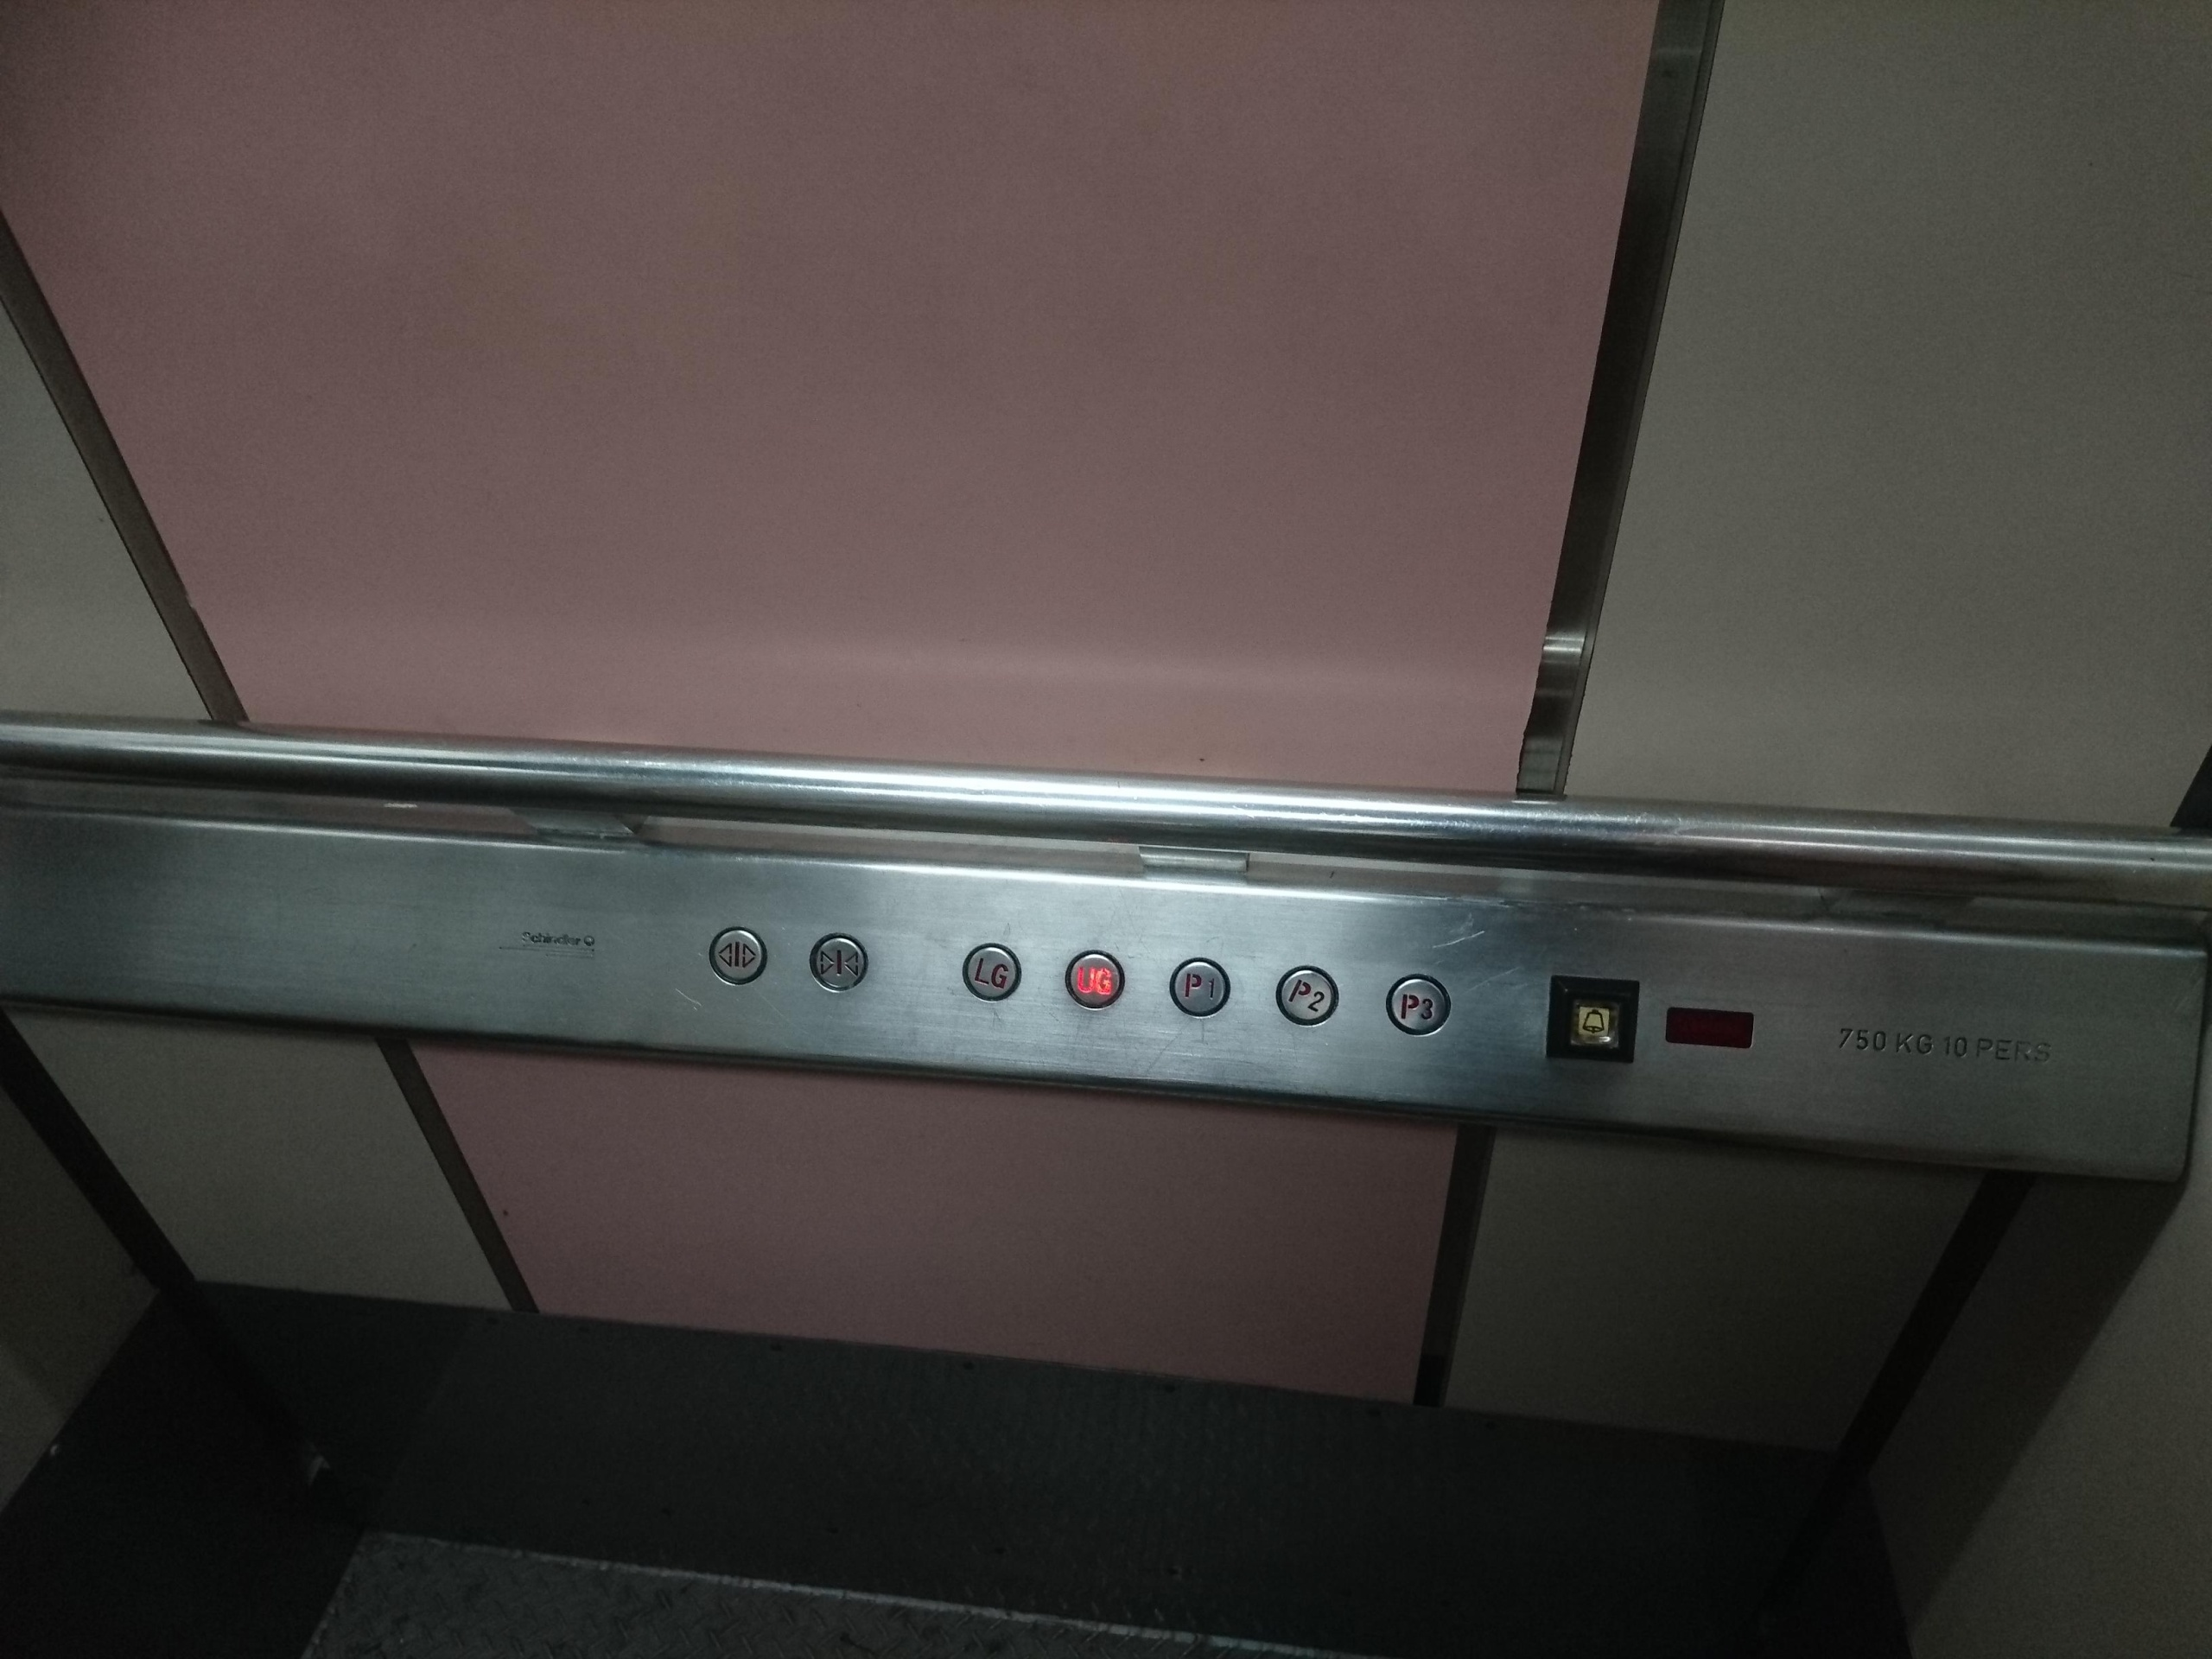LG: (958, 938, 1026, 1007)
P1: (1165, 951, 1233, 1021)
P2: (1271, 958, 1341, 1032)
P3: (1381, 967, 1460, 1040)
UG: (1061, 945, 1127, 1014)
alarm: (1541, 965, 1644, 1075)
close: (803, 929, 871, 997)
led: (1660, 999, 1761, 1056)
open: (704, 922, 772, 990)
